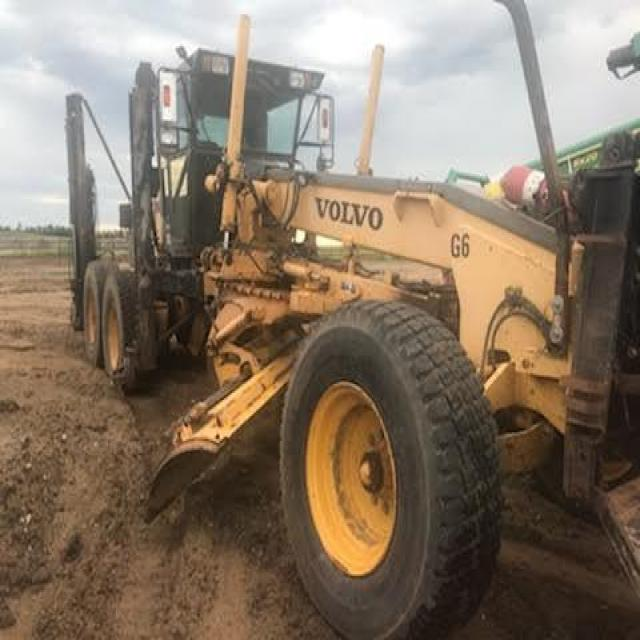Grader: (67, 30, 630, 635)
